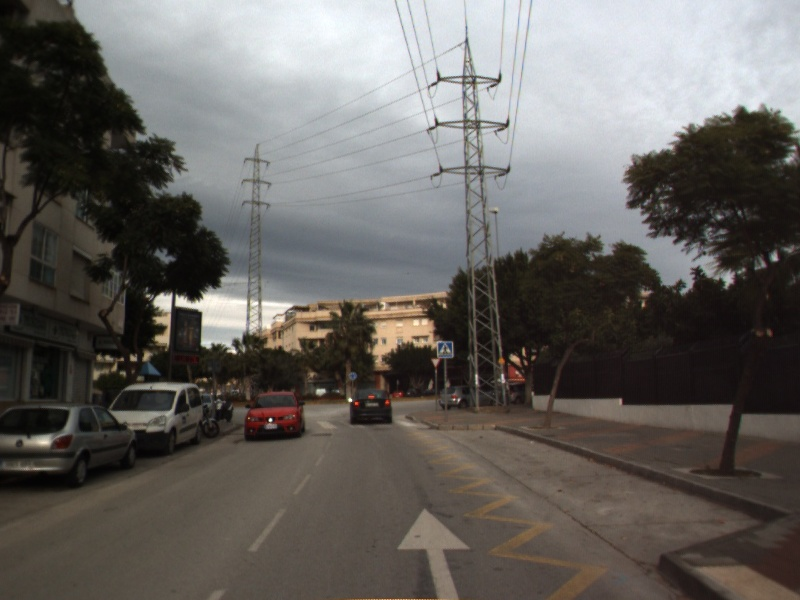STRAIGHT: (393, 503, 475, 600)
